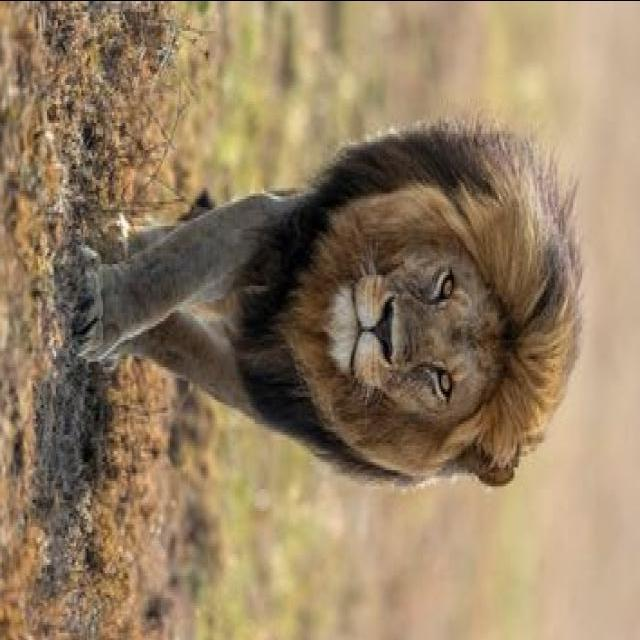lions: (52, 61, 640, 542)
